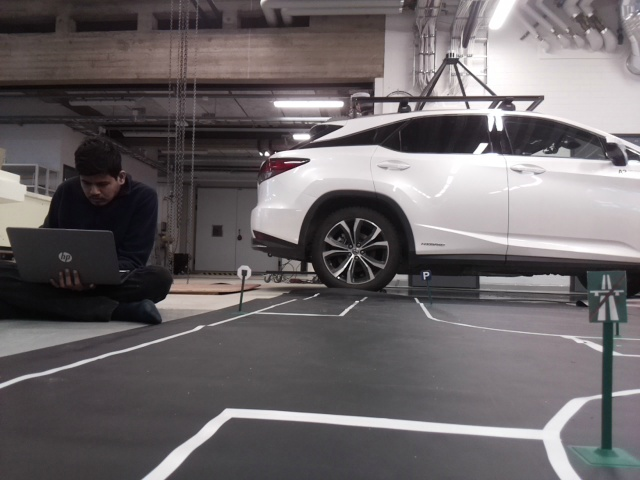HighwayExit: (588, 273, 625, 319)
